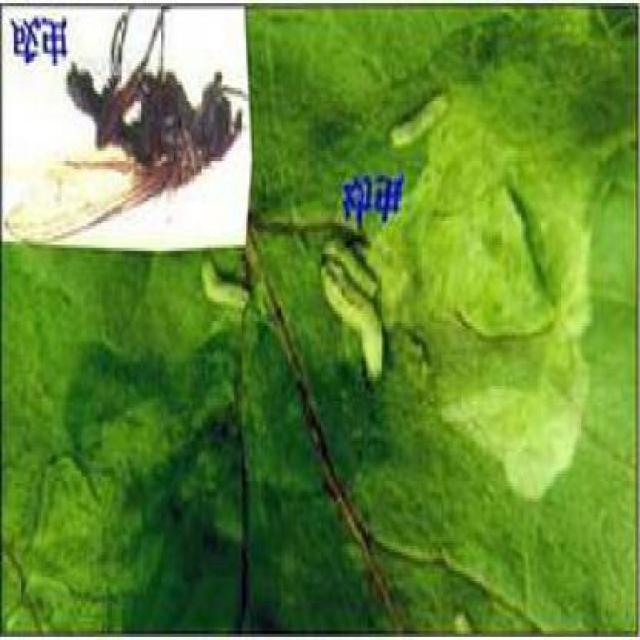whorl-maggot: (318, 232, 385, 380), (386, 79, 454, 161), (198, 252, 256, 317)
